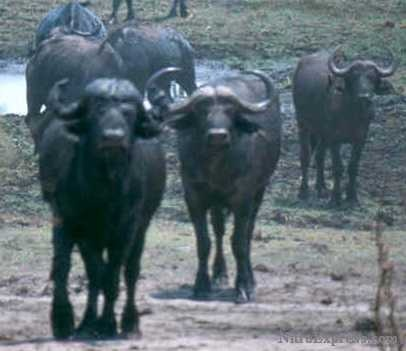buffalo: (36, 77, 169, 341), (146, 66, 282, 304), (292, 43, 397, 211)
